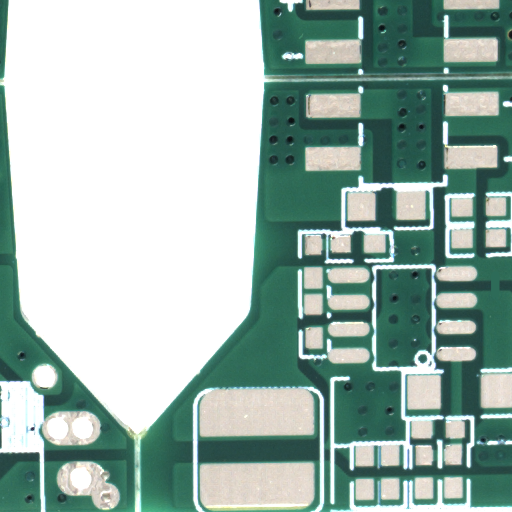Short: (495, 285, 512, 304)
